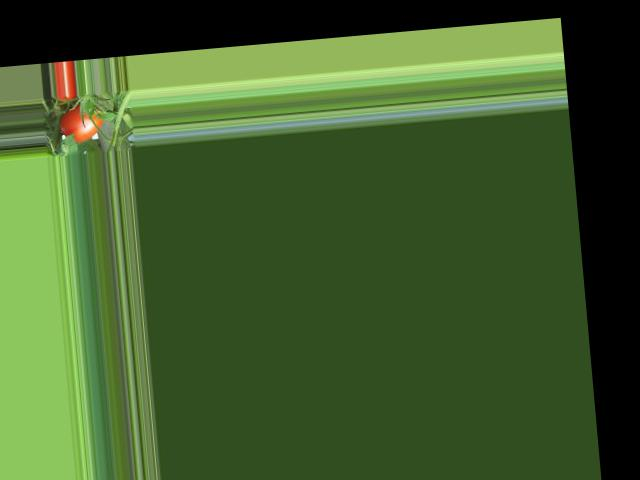tomato: (57, 103, 103, 144)
